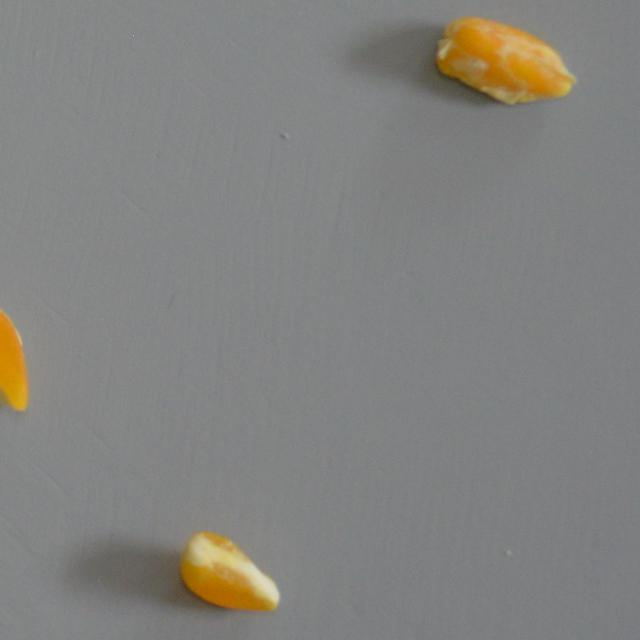dañado: (423, 2, 582, 116), (172, 522, 293, 621), (0, 286, 42, 426)
